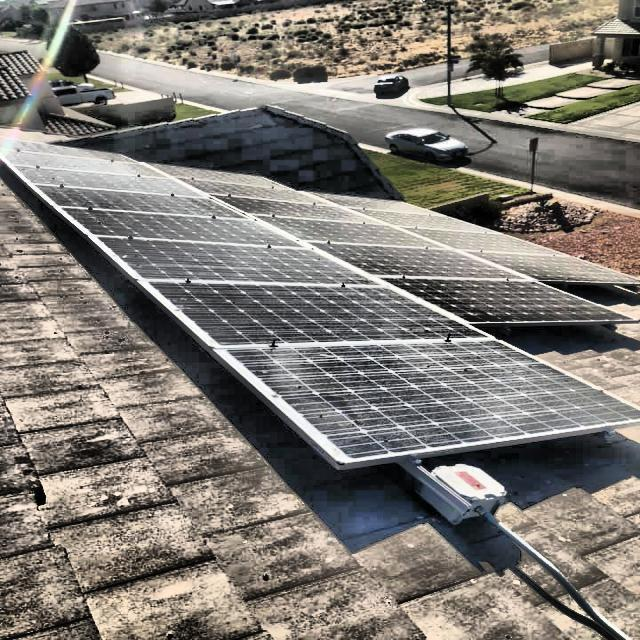Anomaly Solar Panel: (10, 140, 639, 458)
Surface Contaminant: (10, 140, 638, 457)
